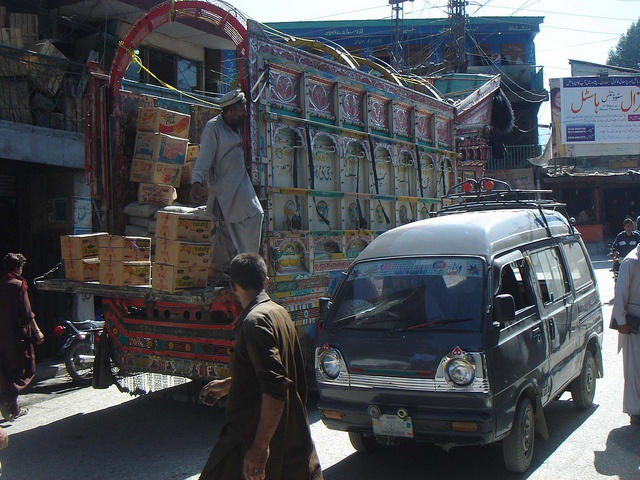non-vehicle: (54, 317, 103, 386), (607, 244, 623, 288)
